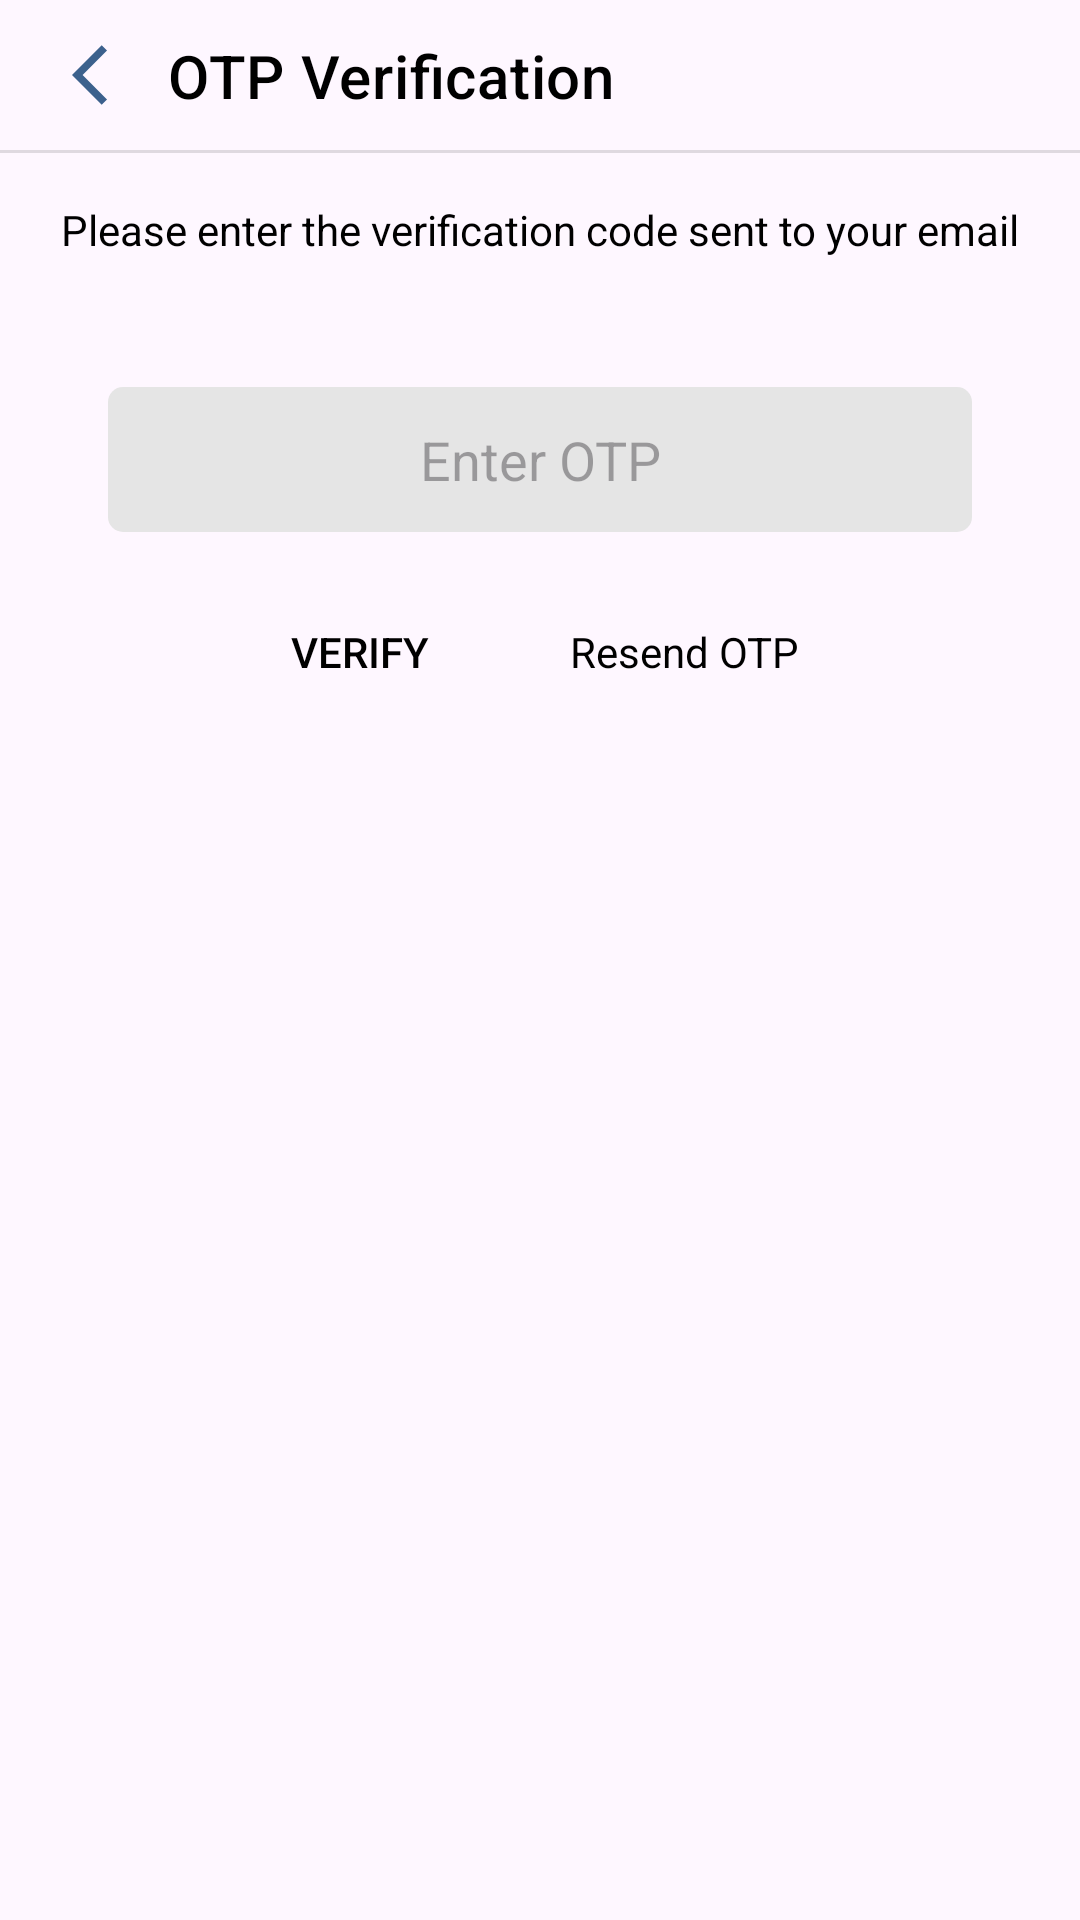

Where icons sit on this 1080w x 1920h app screen, as (x1, y1, x2, y2):
Exit: (72, 45, 107, 105)
